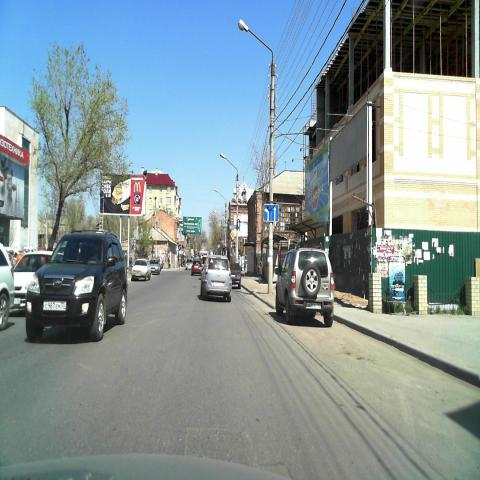5_15_2_2: (263, 203, 279, 222)
